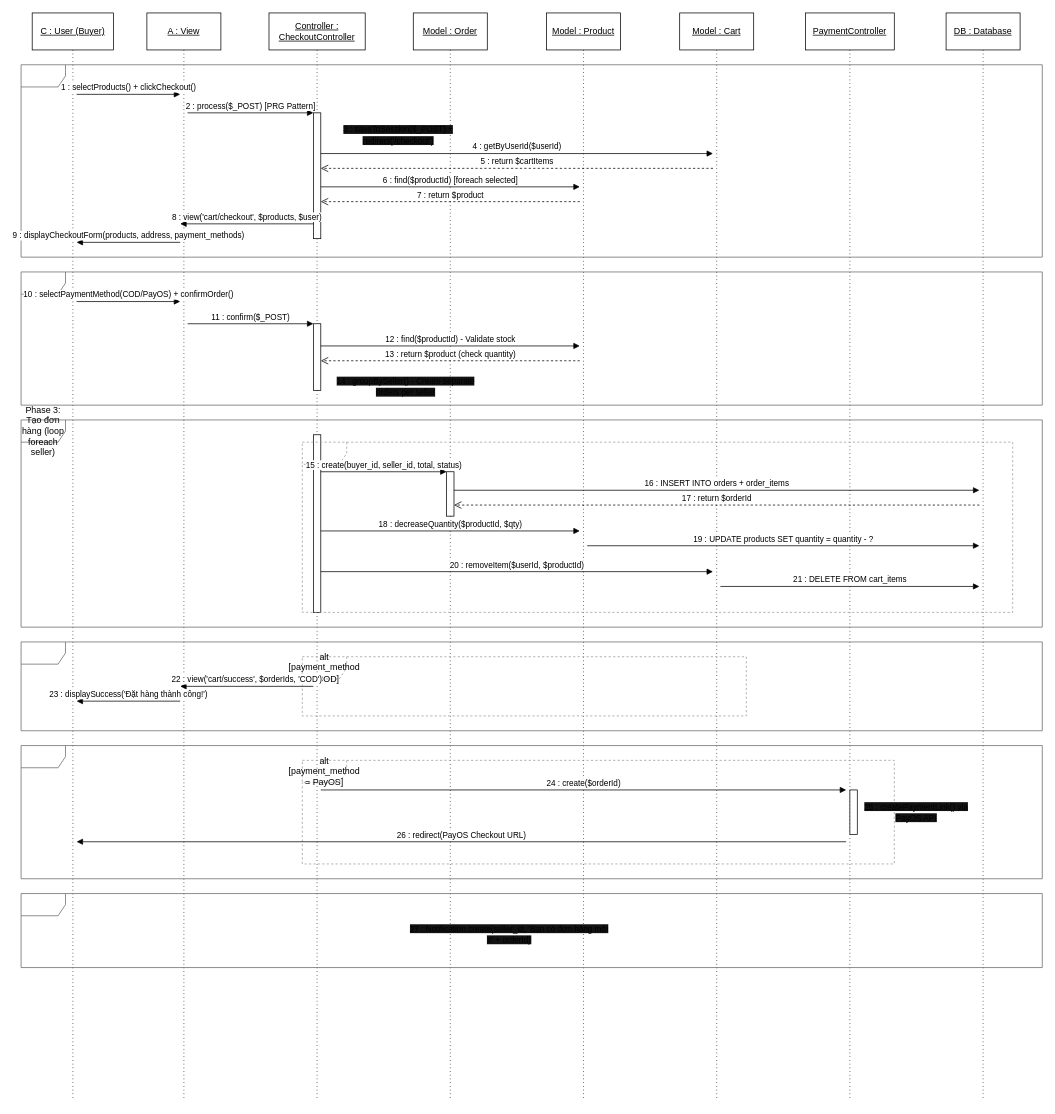
The diagram is 1055 pixels wide and 1114 high, and some of its shapes have lost their labels. The box of each missing label's shape, as (x1, y1, x2, y2) in pixels:
loop [foreach seller]: (302, 441, 1013, 612)
Phase 1: Hiển thị trang thanh toán: (20, 64, 1042, 257)
Phase 2: Xác nhận đặt hàng: (20, 271, 1042, 405)
Phase 4a: COD - Hiển thị thành công: (20, 641, 1042, 731)
Phase 4b: PayOS - Chuyển hướng thanh toán: (20, 745, 1042, 879)
Phase 5: Thông báo cho người bán (async): (20, 893, 1042, 968)
